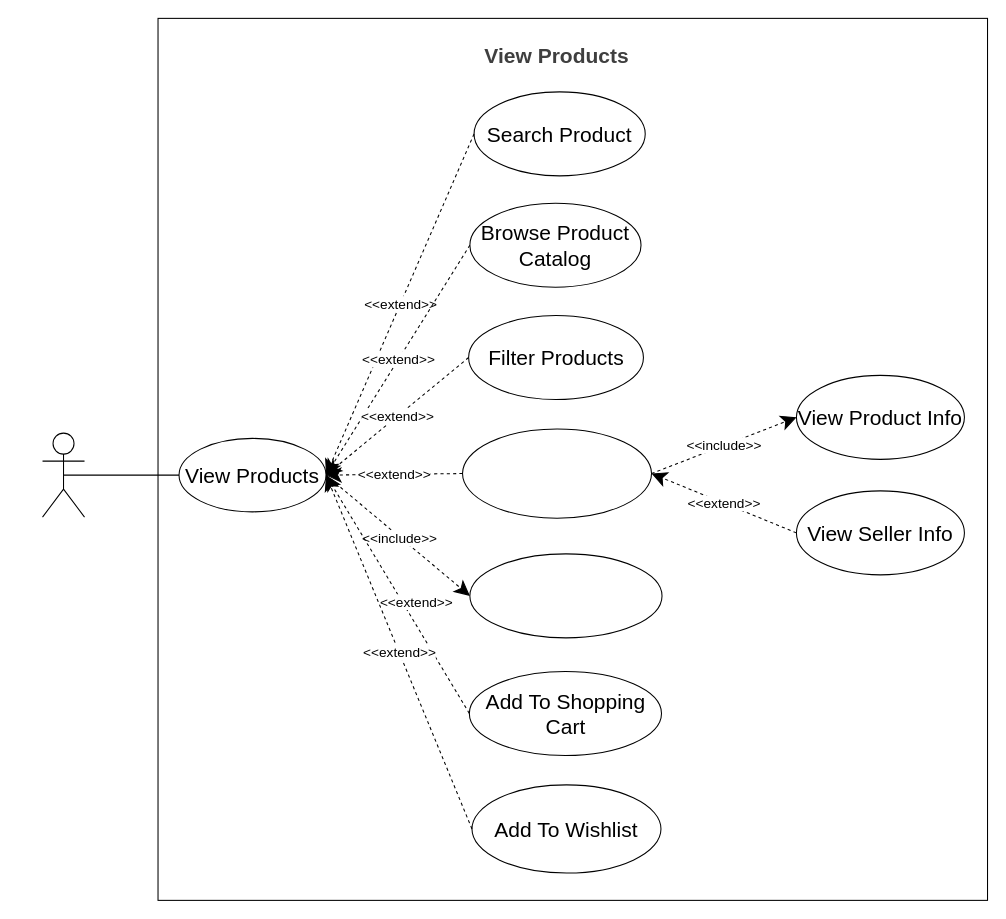
Image size: 1006x919. Some labels were removed from this diagram. Each missing label, with the box of its shape:
Customer: (41, 432, 85, 517)
View Product Details: (461, 428, 652, 518)
View Recommended Products: (469, 553, 662, 638)
